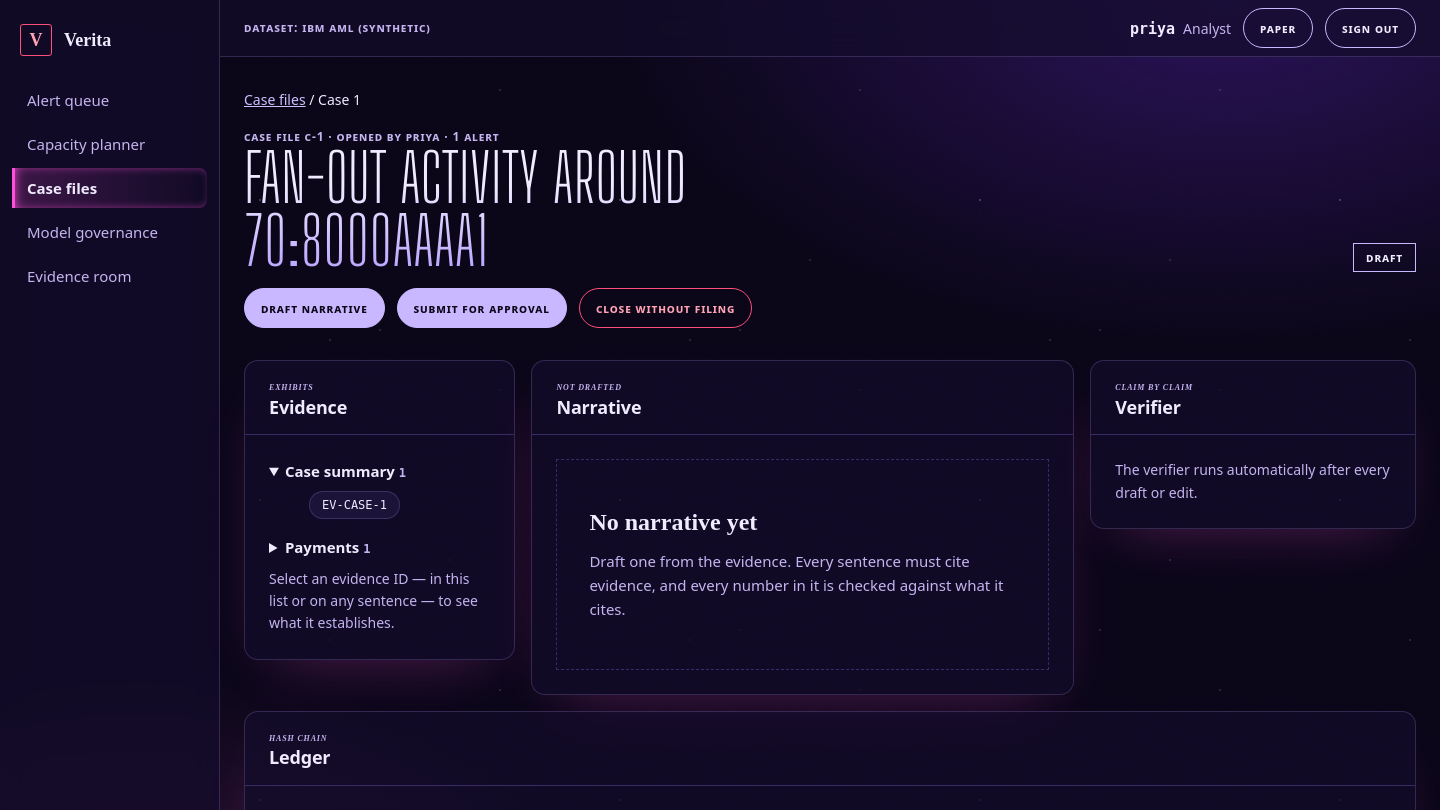
Test: drafts through a real job and shows the verified narrative
Expected: the heading "No narrative yet" is shown, [589,508,757,537]
Click the button "Draft narrative".
click(314, 308)  # box [244,288,385,328]
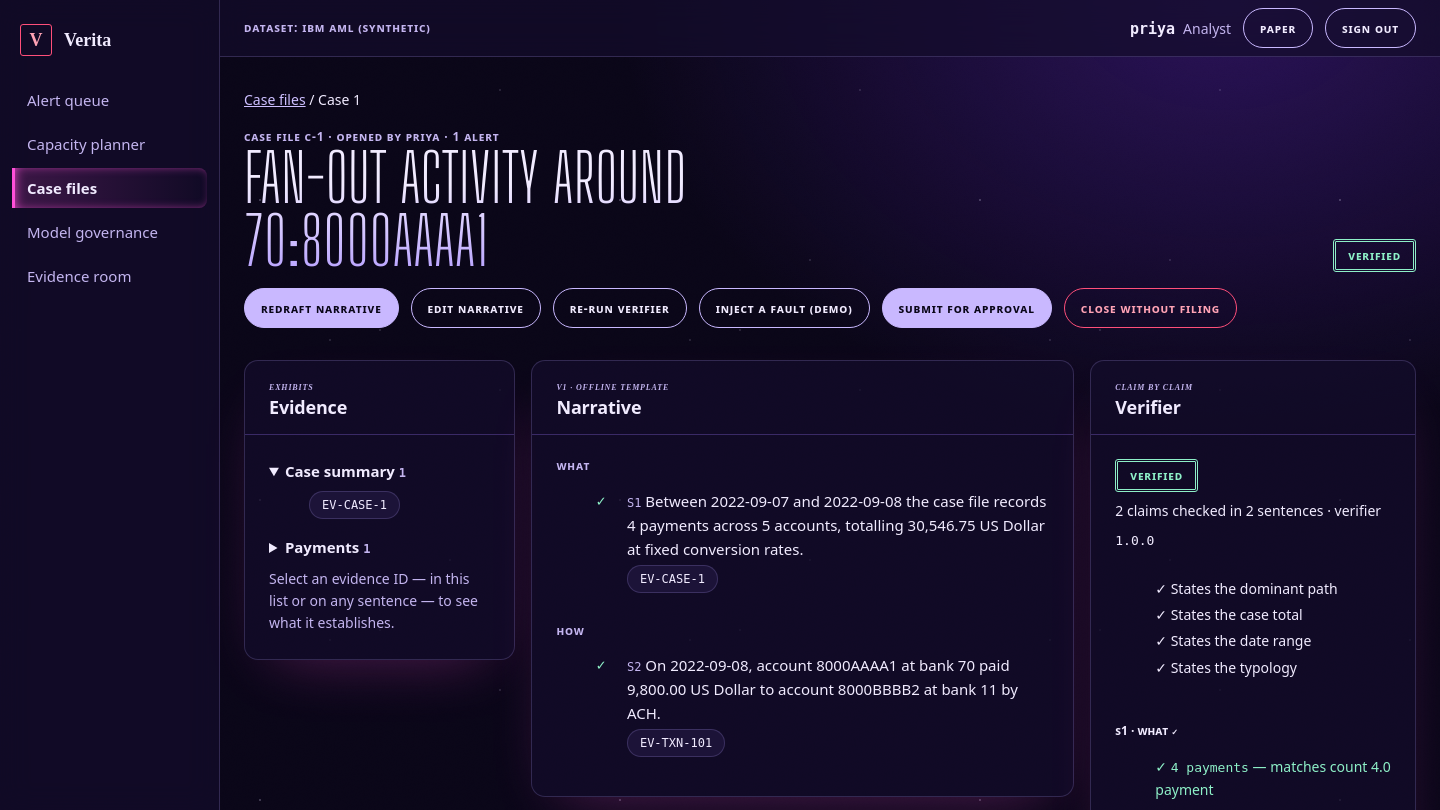
Now the text "totalling 30,546.75 US Dollar" is shown, box [627,491,1046,559]
Now the 1st text "Verified" is shown, box [1333,239,1416,272]
Now the button "EV-TXN-101" is shown, box [627,729,725,757]
